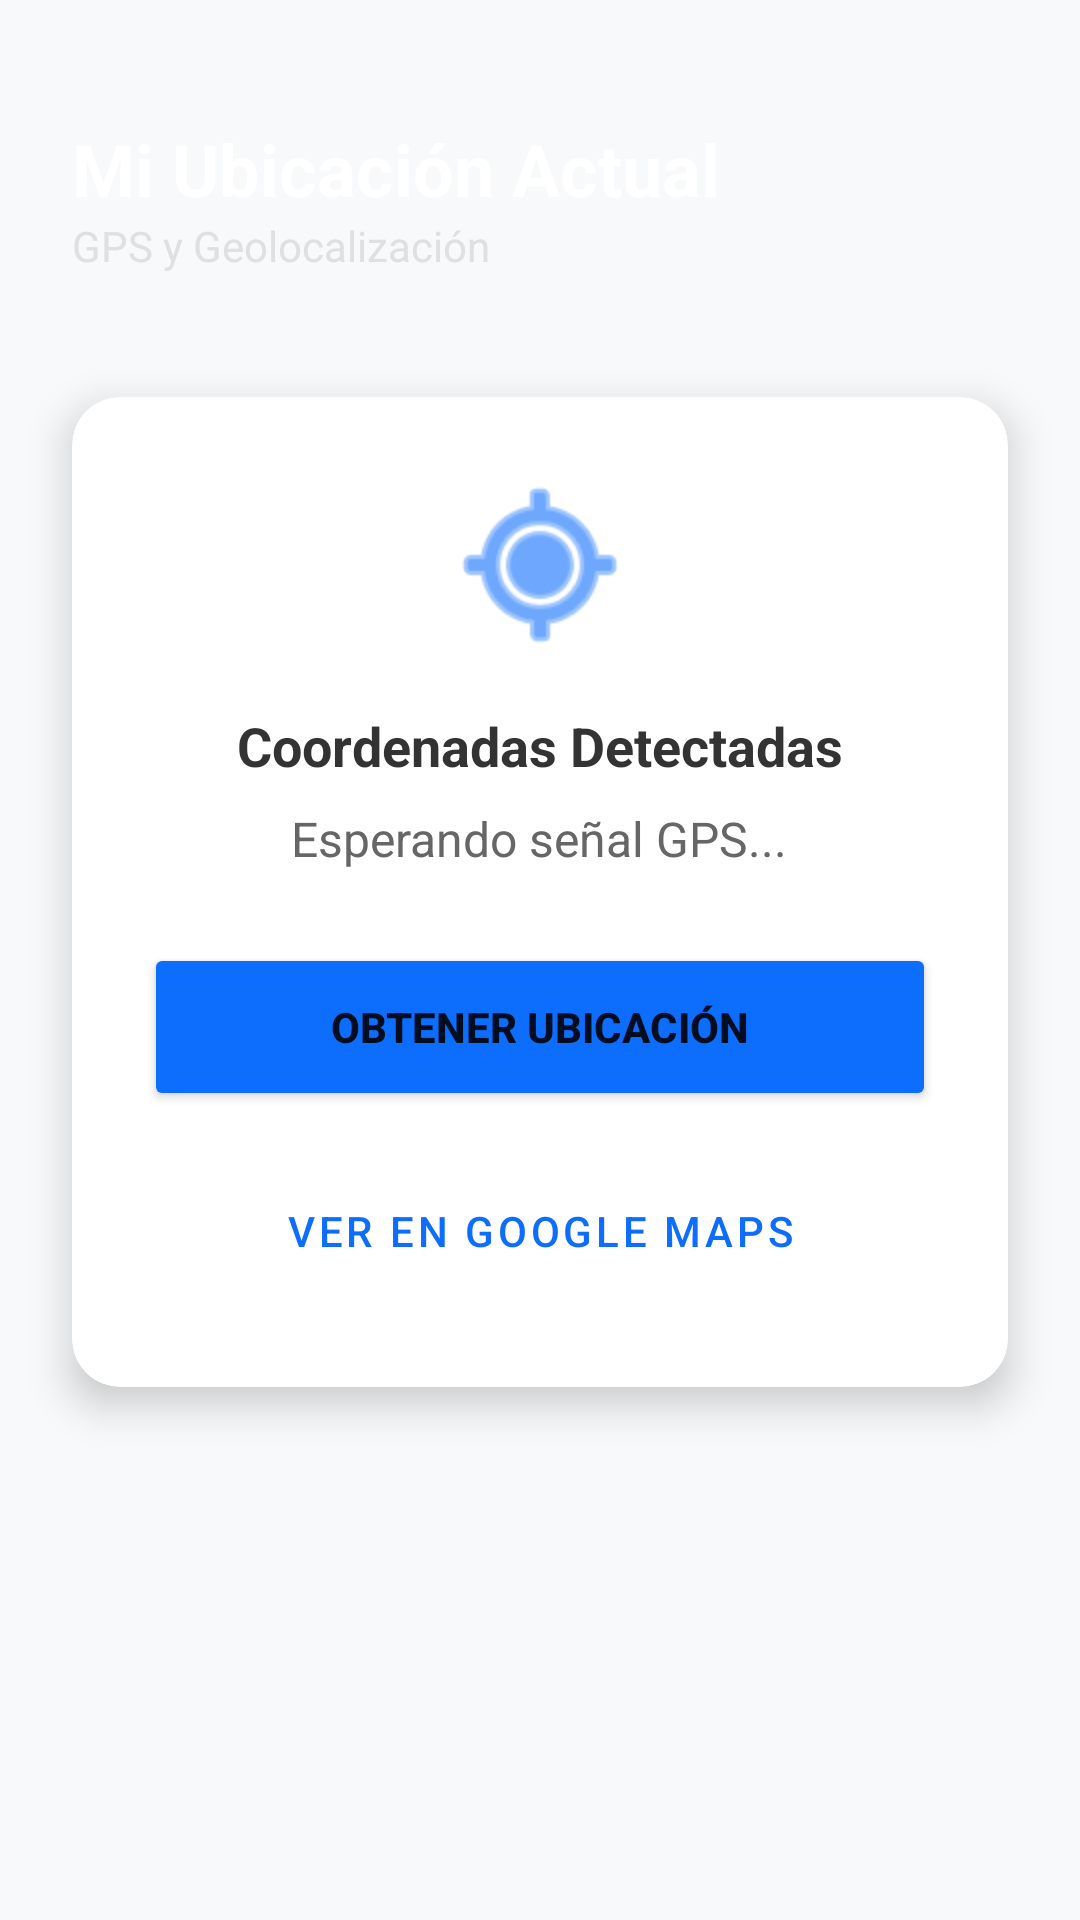

Icon click points for this 1080 × 1920 phone screenshot, format (x,y):
mylocation: (540,565)
